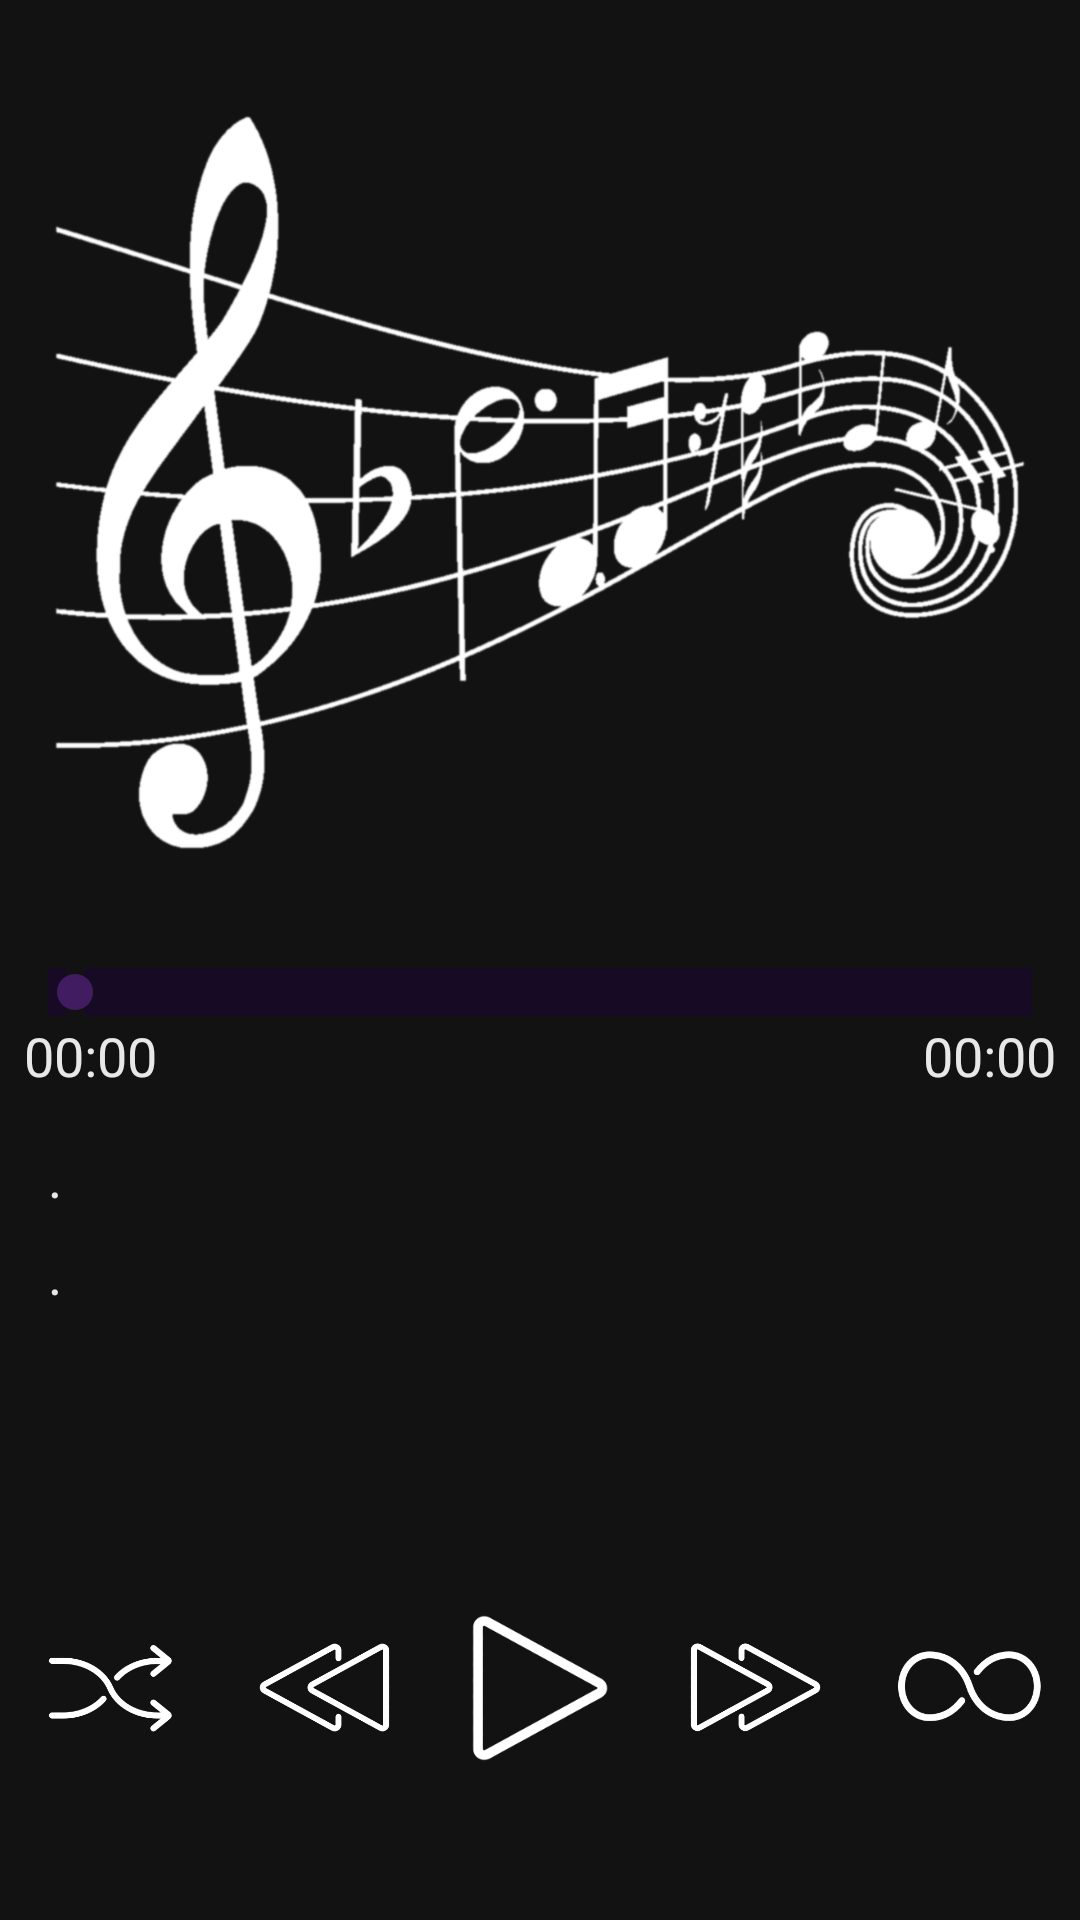

Icons on this 1080*1920 Android screen, each with its box as (x1, y1, x2, y2):
loop: (898, 1651, 1041, 1721)
next: (690, 1643, 821, 1731)
play: (472, 1616, 608, 1760)
prev: (259, 1643, 390, 1732)
rand off: (49, 1645, 172, 1732)
